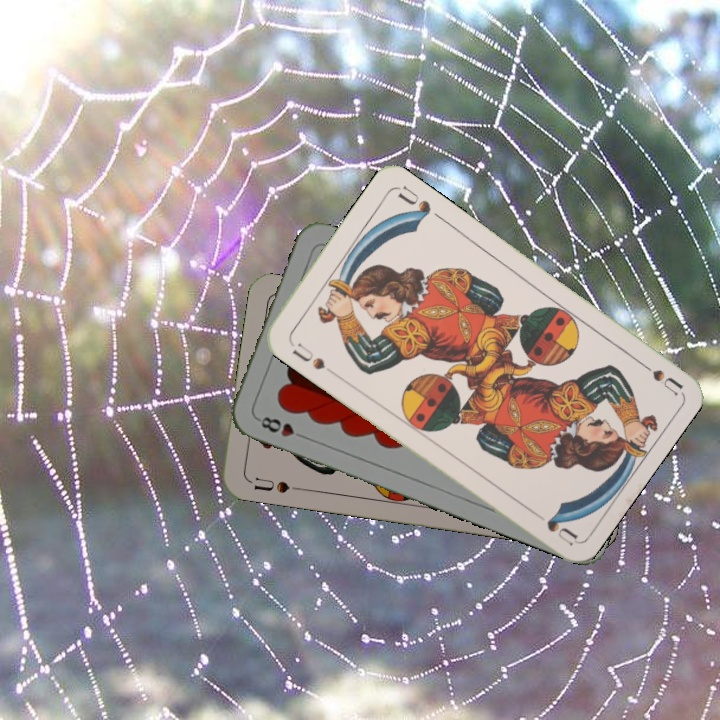H8: (253, 412, 310, 442)
SU: (630, 354, 684, 397), (285, 337, 337, 378), (245, 473, 304, 496)
